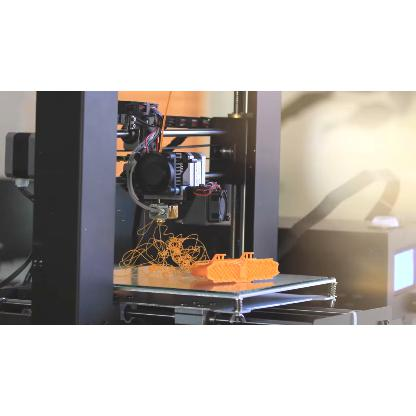fail: (120, 226, 196, 278)
